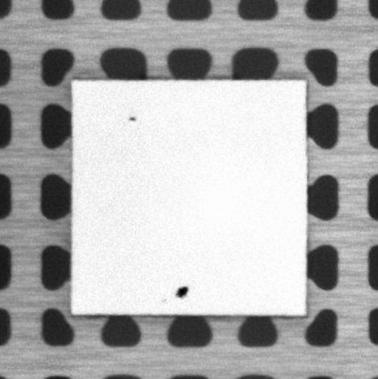DIE_INK: (174, 282, 190, 300), (128, 115, 137, 123)
